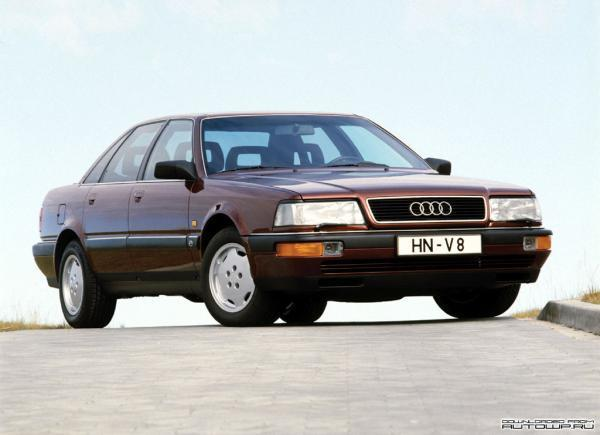Audi: (404, 194, 461, 221)
